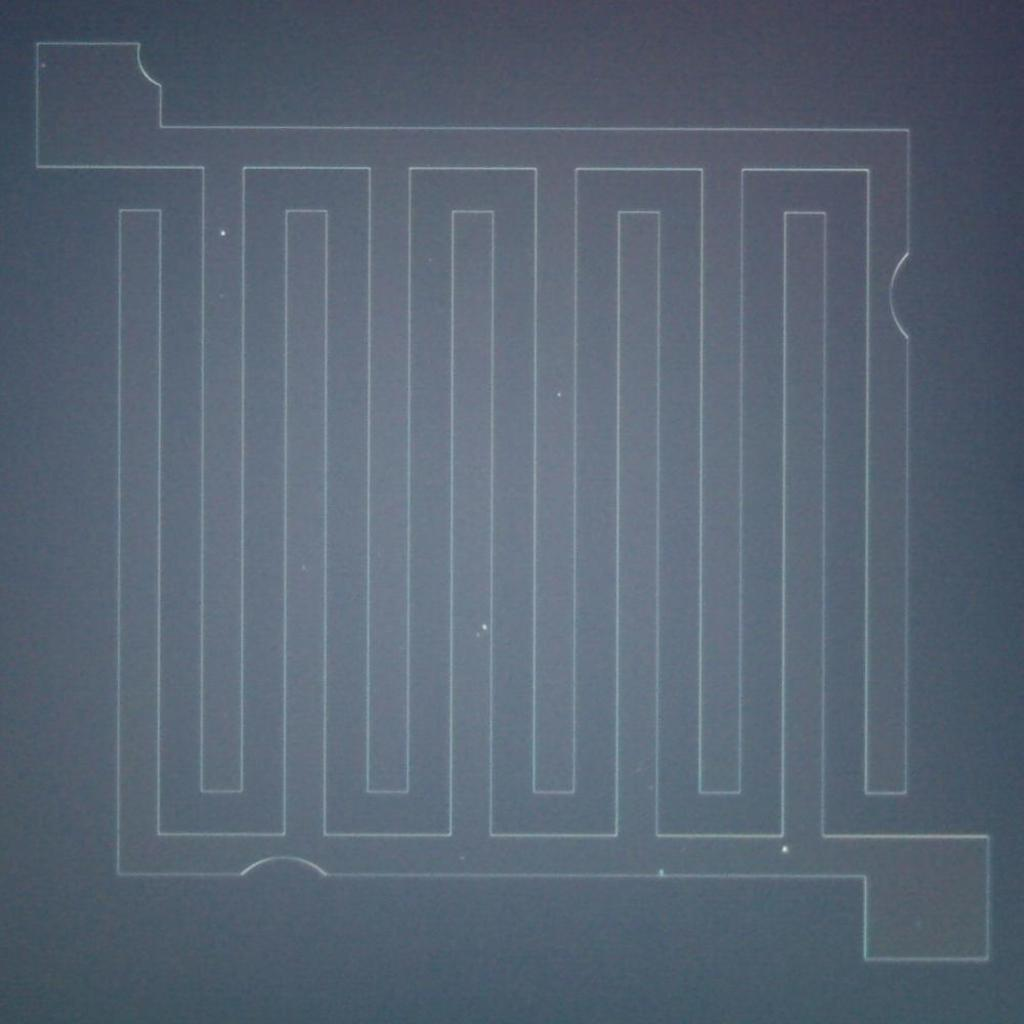dot: (220, 230, 226, 236), (482, 624, 488, 630), (782, 846, 788, 852), (659, 869, 664, 874), (41, 63, 46, 68), (556, 393, 560, 397)
